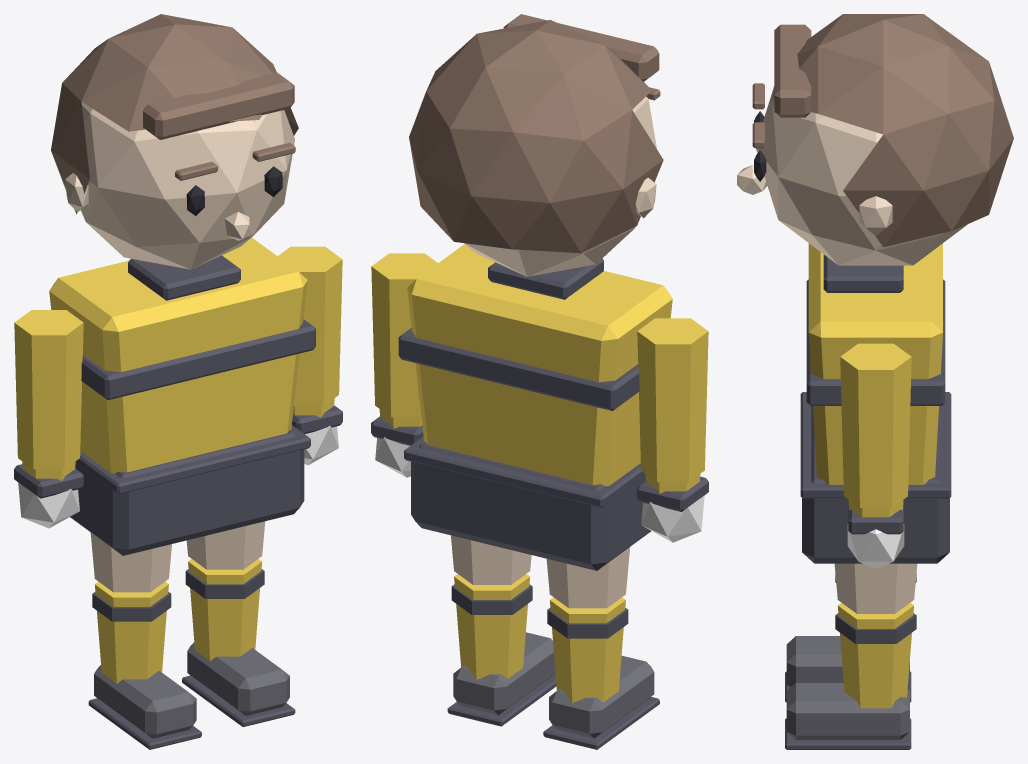
Rendered from player_keeper.glb.
3 views of the same model, side by side, from view 1: azimuth 30°, elevation 25°; view 2: azimuth 150°, elevation 25°; view 3: azimuth 270°, elevation 25° (orthographic). The views are drawn at different scales.
Visible parts, largest first — view 1: Torso.001, Skull.001, Hair.001, Shorts.001, UpperArm_R.001, UpperArm_L.001, ShirtStripe.001, Fringe.001, Sock_R.001, Sock_L.001, Boot_R.001, Boot_L.001 (+14 smaller); view 2: Hair.001, Torso.001, Shorts.001, UpperArm_R.001, UpperArm_L.001, ShirtStripe.001, Sock_R.001, Sock_L.001, Boot_R.001, Boot_L.001, ShortsBand.001, Thigh_R.001 (+13 smaller); view 3: Hair.001, Torso.001, Skull.001, UpperArm_L.001, Shorts.001, Boot_L.001, Sock_L.001, Thigh_L.001, ShortsBand.001, Fringe.001, ShirtStripe.001, Boot_R.001 (+8 smaller).
Part boxes in pixels (x1=…): Torso.001: x1=49, y1=237, x2=307, y2=473; Skull.001: x1=80, y1=102, x2=294, y2=269; Hair.001: x1=51, y1=14, x2=298, y2=214; Shorts.001: x1=70, y1=430, x2=304, y2=555; UpperArm_R.001: x1=14, y1=310, x2=83, y2=469; UpperArm_L.001: x1=278, y1=246, x2=342, y2=406; ShirtStripe.001: x1=81, y1=319, x2=315, y2=399; Fringe.001: x1=143, y1=72, x2=294, y2=139; Sock_R.001: x1=95, y1=581, x2=168, y2=683; Sock_L.001: x1=188, y1=559, x2=262, y2=660; Boot_R.001: x1=94, y1=665, x2=196, y2=738; Boot_L.001: x1=187, y1=642, x2=289, y2=715; Hair.001: x1=409, y1=20, x2=663, y2=253; Torso.001: x1=407, y1=244, x2=672, y2=486; Shorts.001: x1=411, y1=441, x2=650, y2=570; UpperArm_R.001: x1=637, y1=318, x2=708, y2=482; UpperArm_L.001: x1=371, y1=253, x2=437, y2=417; ShirtStripe.001: x1=398, y1=328, x2=639, y2=410; Sock_R.001: x1=549, y1=597, x2=625, y2=703; Sock_L.001: x1=454, y1=574, x2=529, y2=679; Boot_R.001: x1=549, y1=655, x2=654, y2=738; Boot_L.001: x1=453, y1=632, x2=555, y2=714; ShortsBand.001: x1=404, y1=436, x2=645, y2=507; Thigh_R.001: x1=546, y1=547, x2=629, y2=608; Hair.001: x1=772, y1=14, x2=1013, y2=247; Torso.001: x1=808, y1=243, x2=942, y2=484; Skull.001: x1=756, y1=86, x2=967, y2=265; UpperArm_L.001: x1=840, y1=343, x2=911, y2=507; Shorts.001: x1=802, y1=406, x2=949, y2=563; Boot_L.001: x1=786, y1=683, x2=909, y2=739; Sock_L.001: x1=837, y1=602, x2=913, y2=708; Thigh_L.001: x1=834, y1=563, x2=917, y2=613; ShortsBand.001: x1=800, y1=392, x2=951, y2=498; Fringe.001: x1=774, y1=24, x2=811, y2=117; ShirtStripe.001: x1=806, y1=279, x2=945, y2=405; Boot_R.001: x1=786, y1=636, x2=909, y2=687.
Bounding box in the file's own units: 0.6073 × 1.24 × 0.4495.
